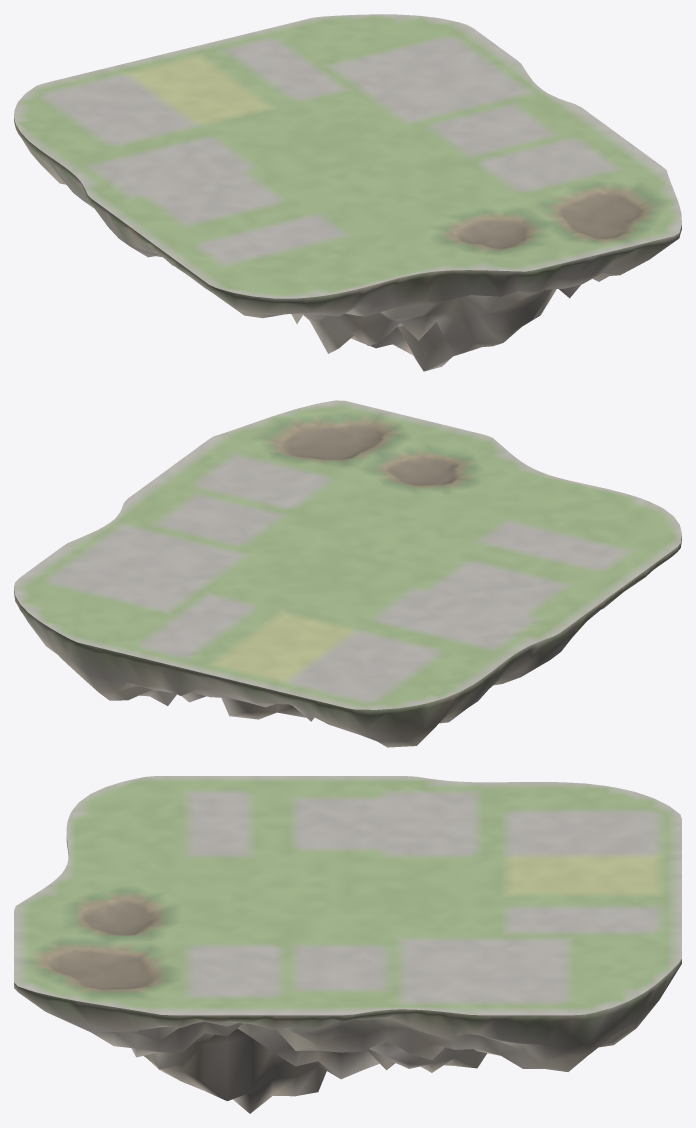
The model's file is SKY-059.rock.glb.
The picture shows the model from 3 angles, top to bottom: view 1: azimuth 30°, elevation 25°; view 2: azimuth 150°, elevation 25°; view 3: azimuth 270°, elevation 25°; orthographic projection. The views are drawn at different scales.
Visible parts, largest first — view 1: deck-col, rock; view 2: deck-col, rock; view 3: deck-col, rock.
Boxes of the visible parts, x1,y1,x2,y2 form: deck-col: (14, 14, 681, 298); rock: (14, 117, 681, 371); deck-col: (14, 400, 681, 709); rock: (14, 536, 681, 747); deck-col: (14, 776, 681, 1015); rock: (14, 837, 681, 1113).
Bounding box in the file's own units: 149 × 56.6 × 176.
